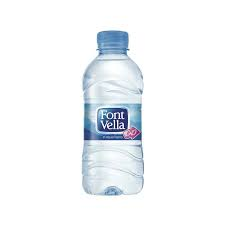Botella: (83, 32, 143, 194)
